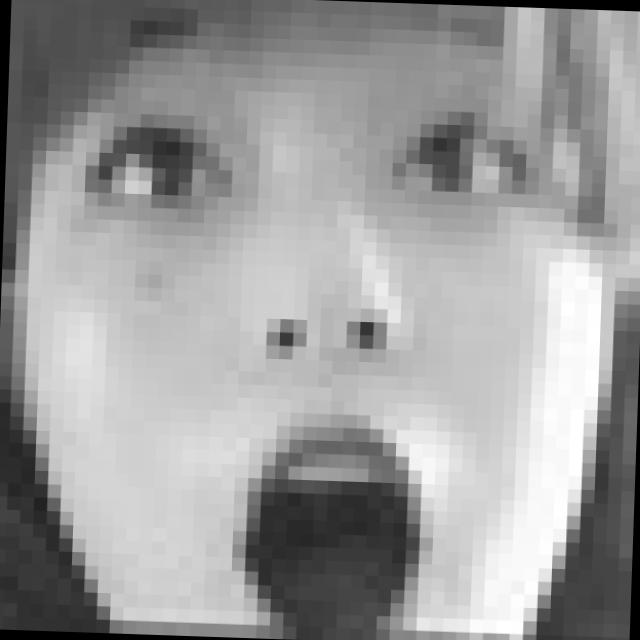surprise: (53, 87, 546, 640)
